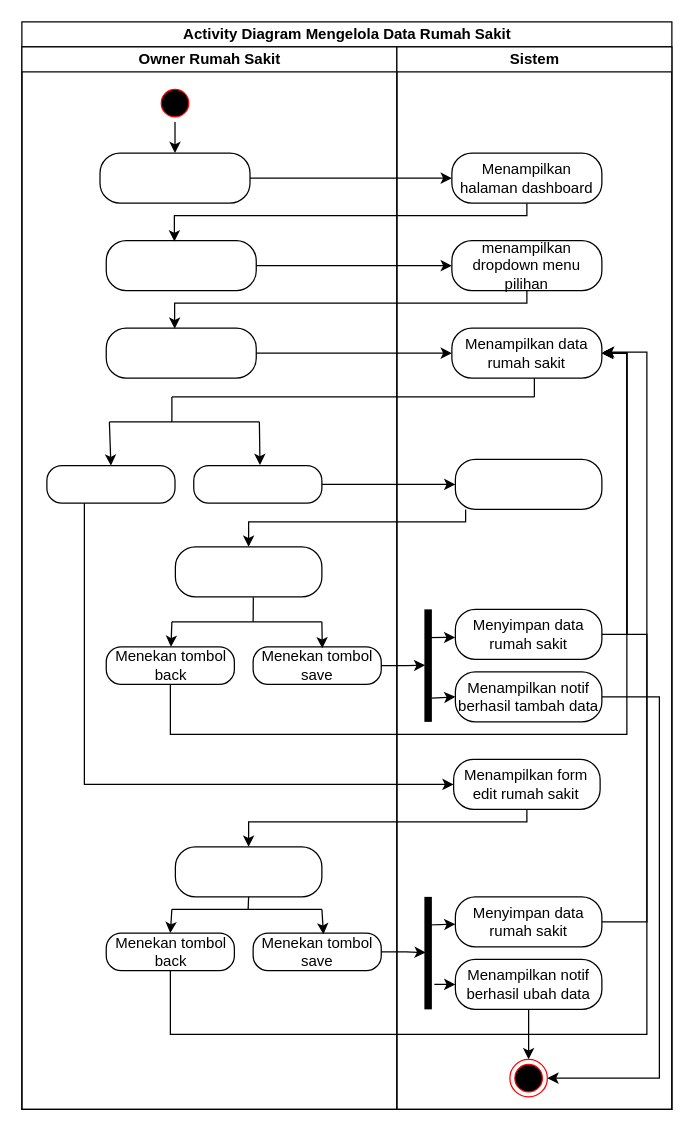
This 694x1131 diagram has some shape labels left out. The shapes that lost their labels are listed below. From the top down, each one's centre as x and y in pixels, then its label:
the point at 174,177: Login
the point at 180,265: Memilih menu master data
the point at 180,352: menekan menu data rumah sakit
the point at 110,483: Menekan tombol edit data
the point at 257,483: Menekan tombol tambah data
the point at 528,483: Menampilkan form tambah rumah sakit
the point at 248,571: Melengkapi form edit rumah sakit
the point at 248,871: Melengkapi form tambah rumah sakit
